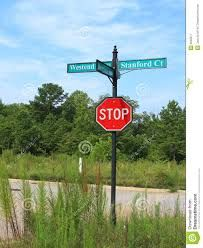stop_sign: (95, 97, 135, 133)
